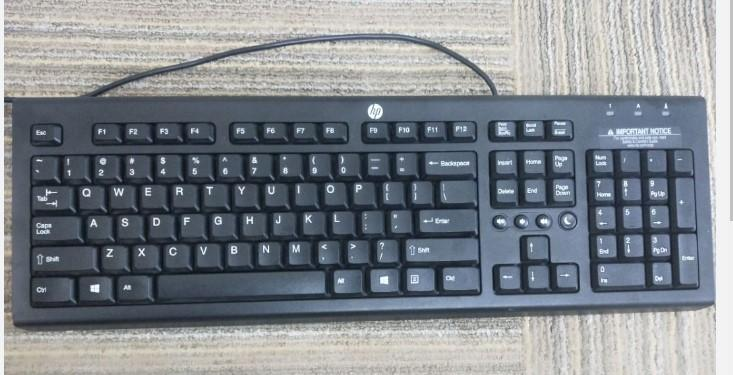Keyboard: (9, 92, 718, 331)
